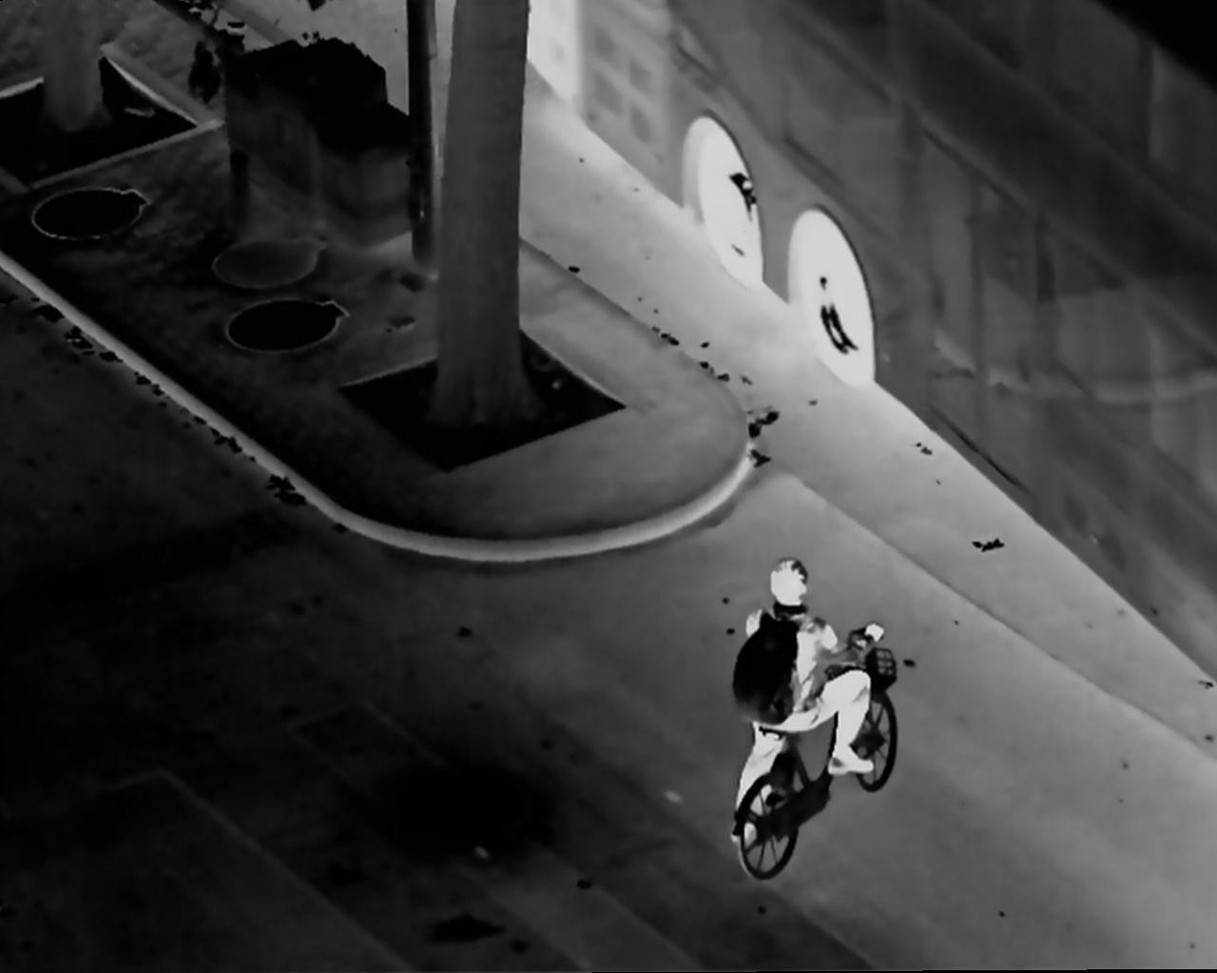person: (730, 553, 879, 848)
